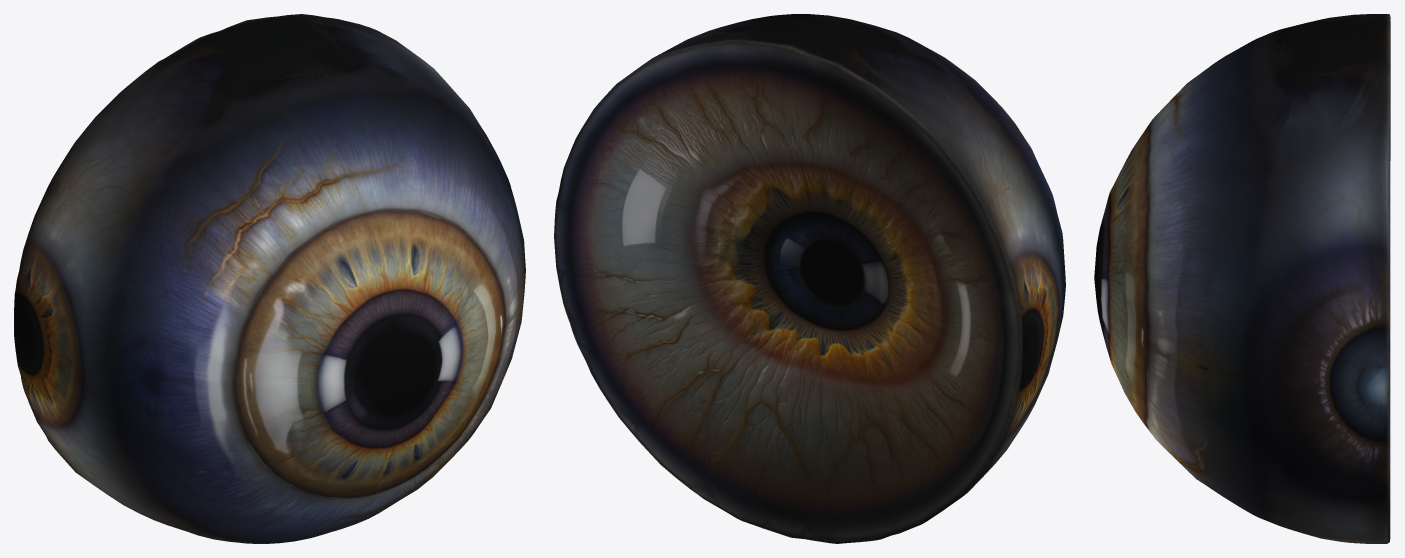
The picture shows the model from 3 angles, left to right: view 1: azimuth 30°, elevation 25°; view 2: azimuth 150°, elevation 25°; view 3: azimuth 270°, elevation 25°; orthographic projection.
Visible parts, largest first — view 1: Mesh1.0; view 2: Mesh1.0; view 3: Mesh1.0.
Boxes of the visible parts, left/top/right/bottom form: Mesh1.0: left=14, top=14, right=525, bottom=543; Mesh1.0: left=554, top=14, right=1065, bottom=543; Mesh1.0: left=1094, top=14, right=1390, bottom=543.
Bounding box in the file's own units: 201 × 201 × 112.
1 material, 1 textured.
